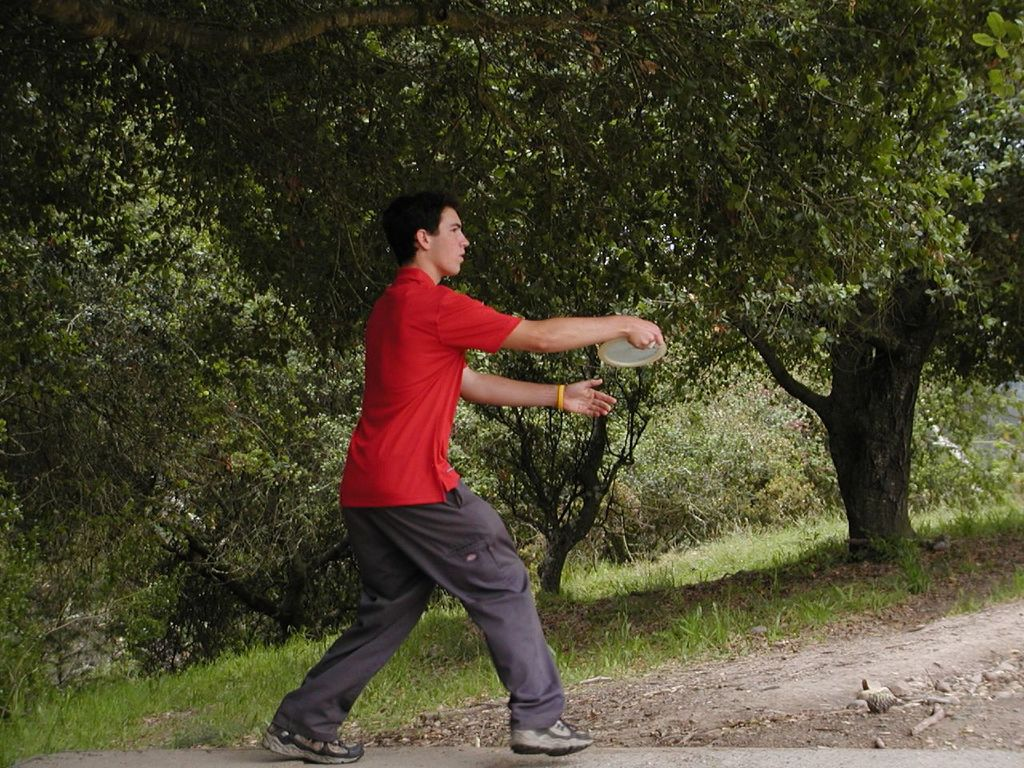Person: (260, 192, 665, 765)
